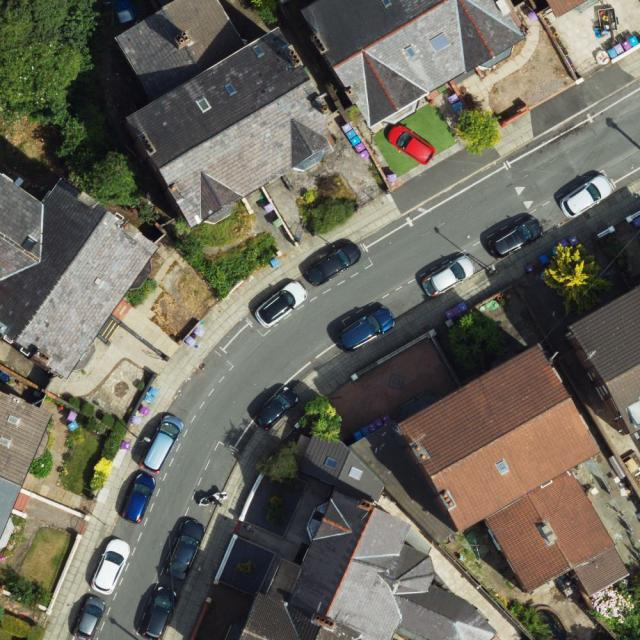roof: (401, 344, 630, 601), (235, 430, 498, 640), (112, 0, 336, 226), (0, 172, 162, 376), (302, 0, 531, 132), (569, 287, 640, 437), (0, 391, 55, 550)
skylight: (191, 91, 215, 114), (17, 232, 38, 252), (347, 464, 366, 482), (221, 78, 239, 97), (404, 42, 421, 61), (494, 458, 511, 476), (324, 455, 341, 472), (3, 412, 22, 427), (251, 44, 267, 60), (0, 434, 12, 450), (381, 0, 395, 9)
solar: (430, 29, 453, 54)
